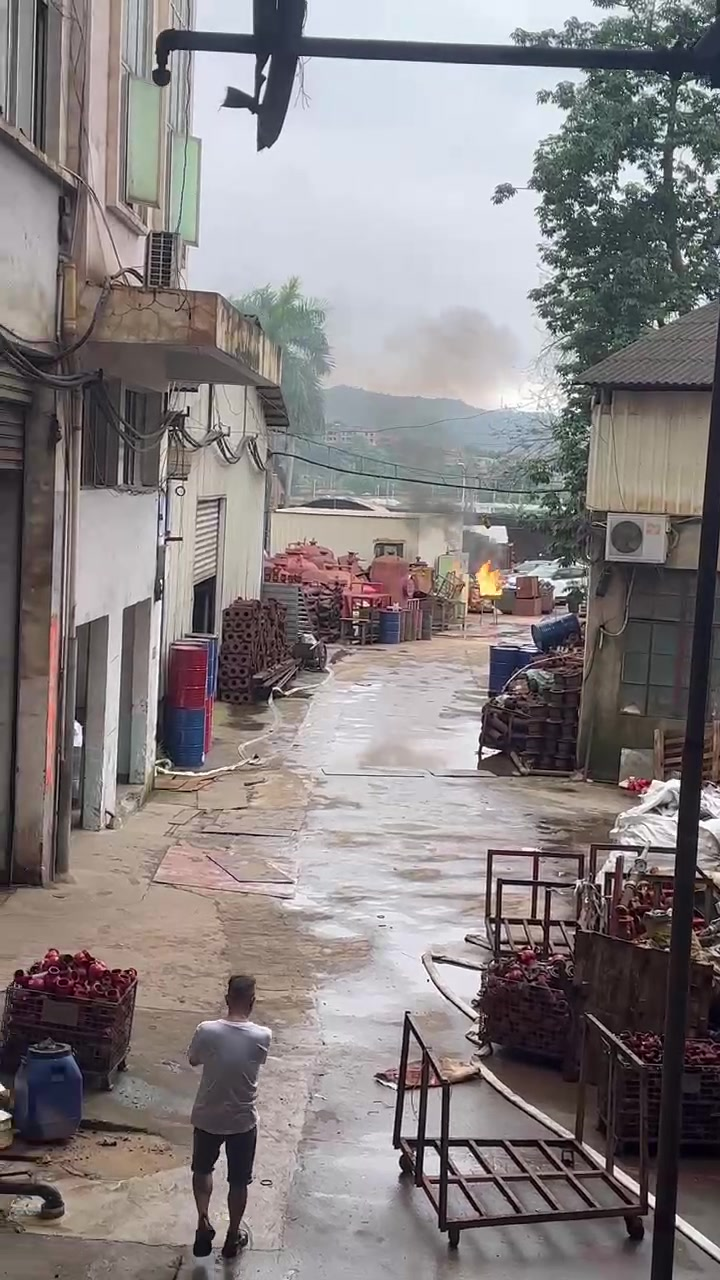fire: (475, 560, 500, 594)
